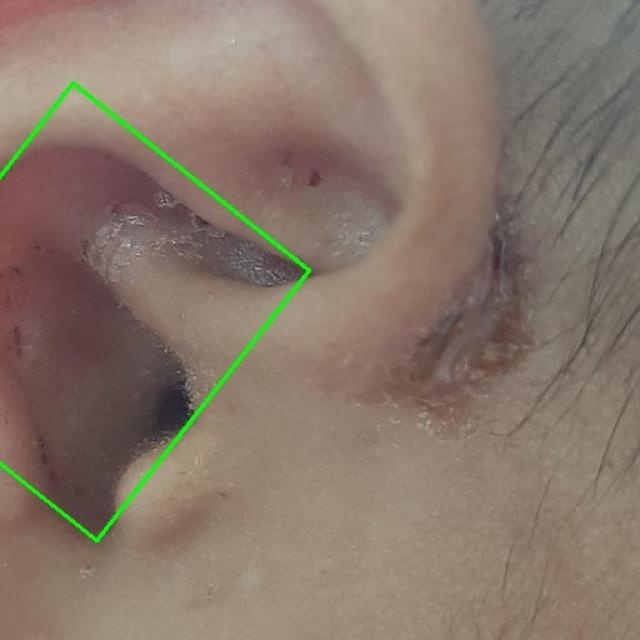Eczema: (0, 84, 341, 576)
